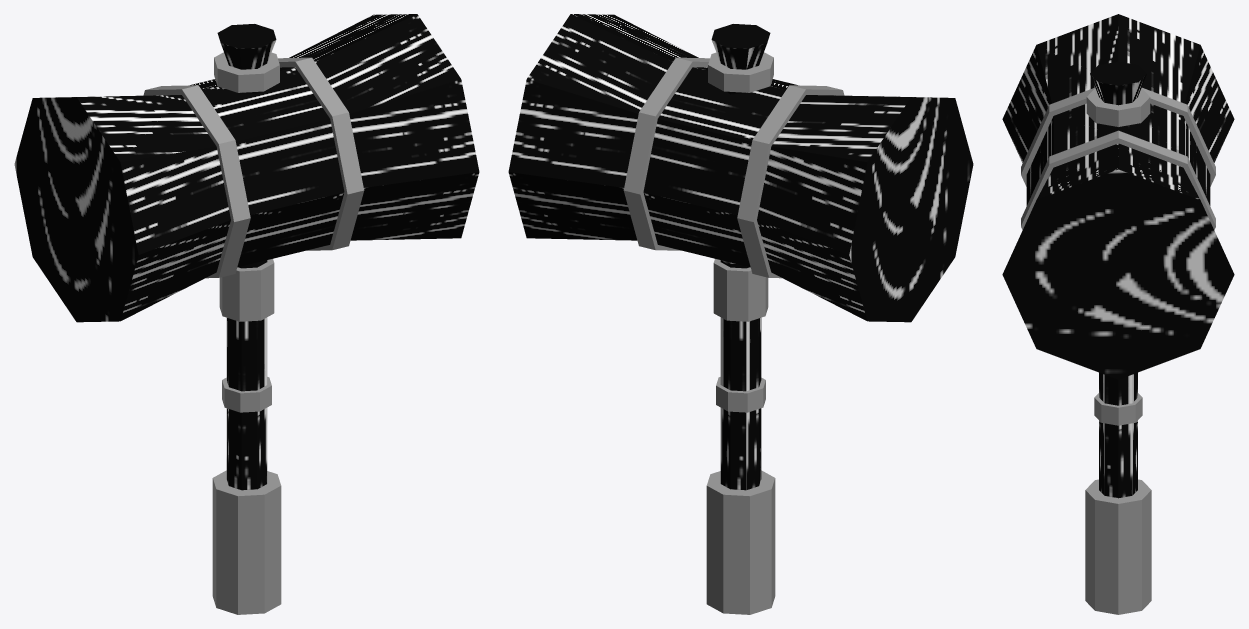
Rendered from Hammer.fbx.
The picture shows the model from 3 angles, left to right: view 1: azimuth 30°, elevation 25°; view 2: azimuth 150°, elevation 25°; view 3: azimuth 270°, elevation 25°; orthographic projection. The views are drawn at different scales.
Parts seen in each view (by area): view 1: Hammer; view 2: Hammer; view 3: Hammer.
Boxes of the visible parts, <box> form: Hammer: <box>14,14,479,614</box>; Hammer: <box>508,14,973,614</box>; Hammer: <box>1002,14,1234,614</box>.
Bounding box in the file's own units: 60.05 × 95 × 37.91.
